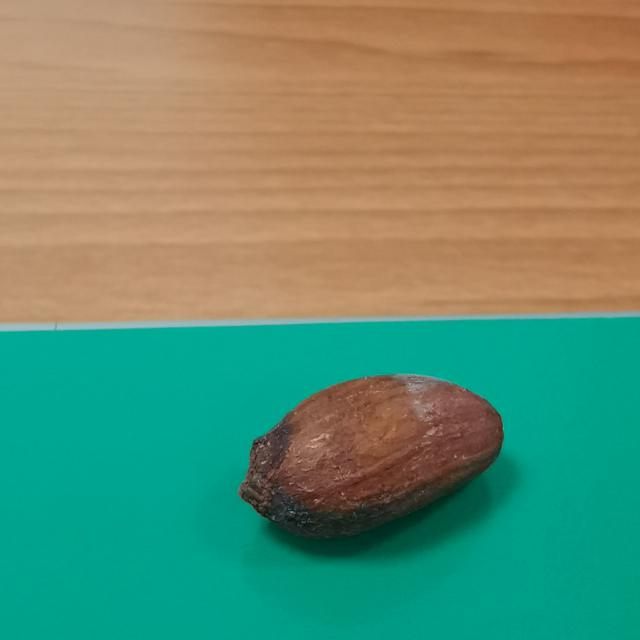Fine_cocoabeans: (191, 337, 562, 577)
